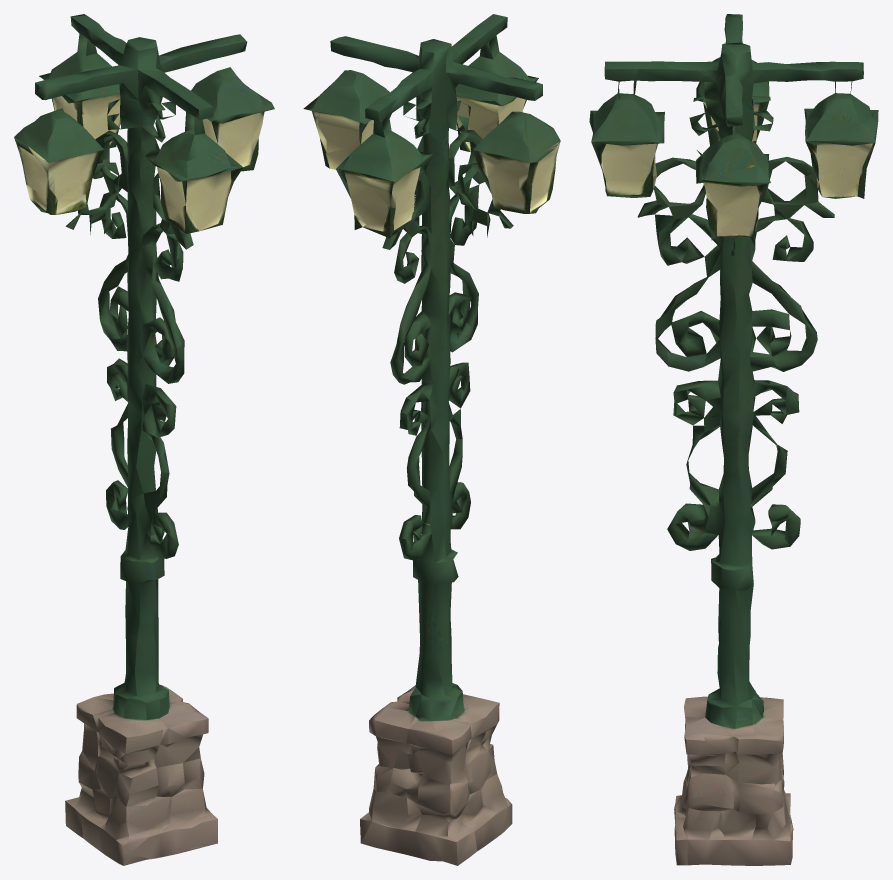
The model's file is pueblo_farol.glb.
3 renders of one model, left to right at view 1: azimuth 30°, elevation 25°; view 2: azimuth 150°, elevation 25°; view 3: azimuth 270°, elevation 25°, orthographic.
Visible parts, largest first — view 1: tripo_node_dcee2ea3-ba7c-403d-bc4f-c019d3e90ef3; view 2: tripo_node_dcee2ea3-ba7c-403d-bc4f-c019d3e90ef3; view 3: tripo_node_dcee2ea3-ba7c-403d-bc4f-c019d3e90ef3.
Part boxes in pixels (left/top/right/bottom): tripo_node_dcee2ea3-ba7c-403d-bc4f-c019d3e90ef3: left=14, top=14, right=274, bottom=865; tripo_node_dcee2ea3-ba7c-403d-bc4f-c019d3e90ef3: left=303, top=14, right=560, bottom=865; tripo_node_dcee2ea3-ba7c-403d-bc4f-c019d3e90ef3: left=589, top=14, right=878, bottom=865.
Size of the model in its own units: 0.303 by 0.9994 by 0.3292.
1 material, 1 textured.
